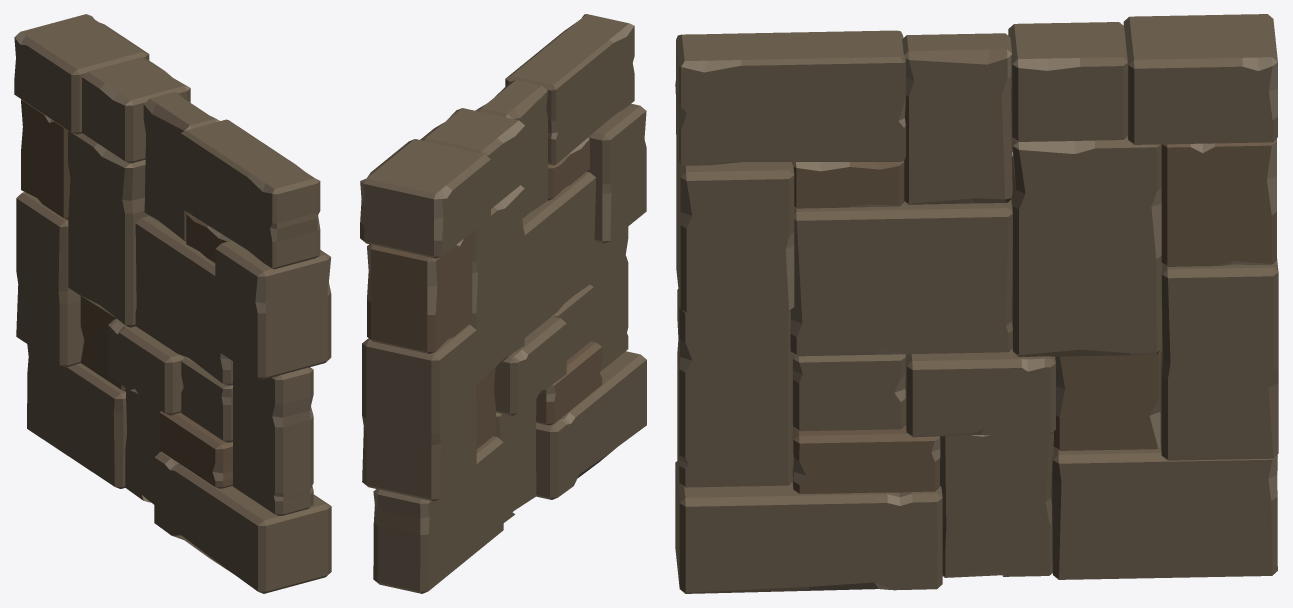
File: crypt_wall_east_4_lev3.glb
3 renders of one model, left to right at view 1: azimuth 30°, elevation 25°; view 2: azimuth 150°, elevation 25°; view 3: azimuth 270°, elevation 25°, orthographic. The views are drawn at different scales.
Parts seen in each view (by area): view 1: crypt_wall_east_4_lev3; view 2: crypt_wall_east_4_lev3; view 3: crypt_wall_east_4_lev3.
Part boxes in pixels (left/top/right/bottom): crypt_wall_east_4_lev3: left=14, top=14, right=331, bottom=593; crypt_wall_east_4_lev3: left=360, top=14, right=646, bottom=593; crypt_wall_east_4_lev3: left=675, top=14, right=1278, bottom=593.
Bounding box in the file's own units: 1.48 × 6.02 × 6.24.
